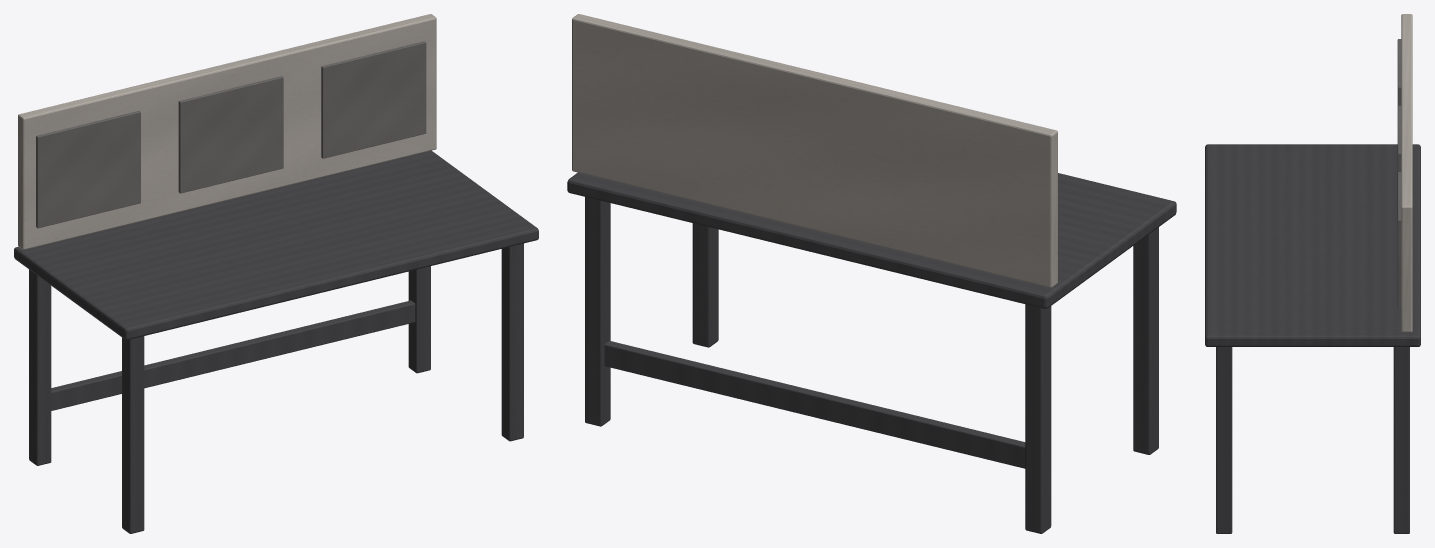
The model's file is industrial_workbench.glb.
3 views of the same model, side by side, from view 1: azimuth 30°, elevation 25°; view 2: azimuth 150°, elevation 25°; view 3: azimuth 270°, elevation 25° (orthographic). The views are drawn at different scales.
Visible parts, largest first — view 1: MESH_MAT_Dark_Metal.223, MESH_MAT_Control_Blue.133, backboard.001; view 2: backboard.001, MESH_MAT_Dark_Metal.223; view 3: MESH_MAT_Dark_Metal.223, backboard.001, MESH_MAT_Control_Blue.133.
Boxes of the visible parts, box(x1,y1,x2,y2) form: MESH_MAT_Dark_Metal.223: box(14, 150, 538, 533); MESH_MAT_Control_Blue.133: box(36, 41, 426, 228); backboard.001: box(18, 14, 436, 249); backboard.001: box(572, 14, 1057, 287); MESH_MAT_Dark_Metal.223: box(567, 172, 1176, 533); MESH_MAT_Dark_Metal.223: box(1205, 144, 1420, 533); backboard.001: box(1401, 14, 1412, 332); MESH_MAT_Control_Blue.133: box(1397, 39, 1401, 307).
Bounding box in the file's own units: 1.8 × 1.44 × 0.85.
3 materials, 3 textured.
